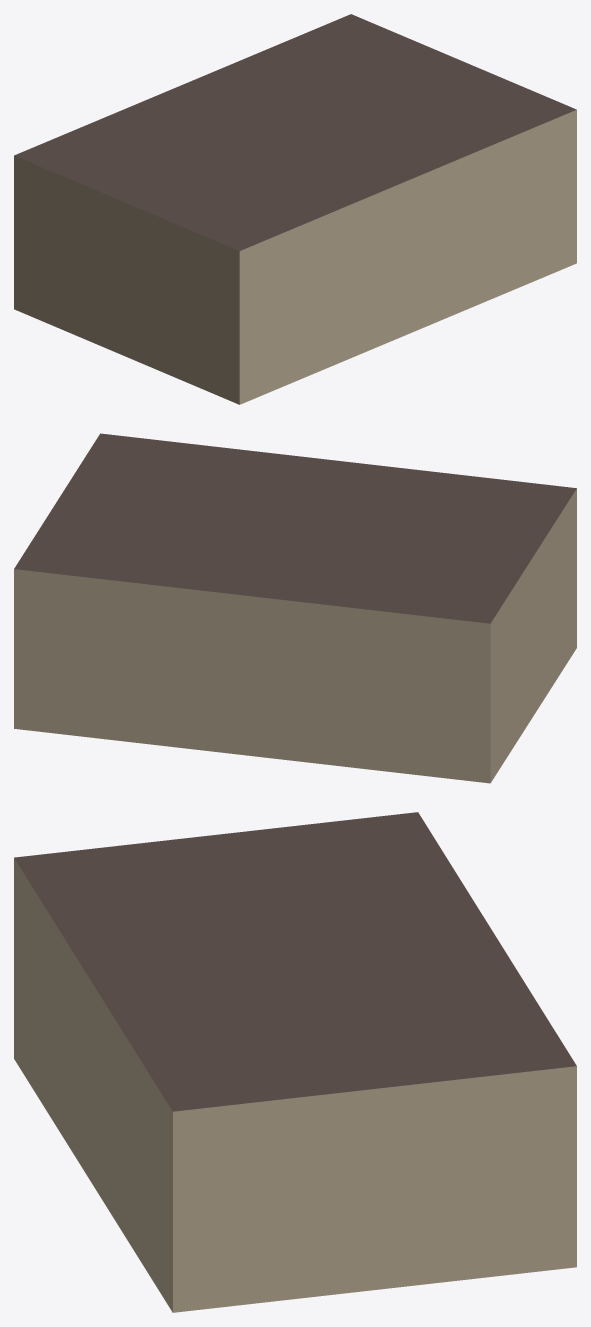
3 renders of one model, top to bottom at view 1: azimuth 30°, elevation 25°; view 2: azimuth 150°, elevation 25°; view 3: azimuth 270°, elevation 25°, orthographic. The views are drawn at different scales.
Parts seen in each view (by area): view 1: HP-w1156896434; view 2: HP-w1156896434; view 3: HP-w1156896434.
Part boxes in pixels (<box>): HP-w1156896434: <box>14,14,576,404</box>; HP-w1156896434: <box>14,433,576,783</box>; HP-w1156896434: <box>14,812,576,1312</box>.
Bounding box in the file's own units: 28.75 × 9 × 22.83.
